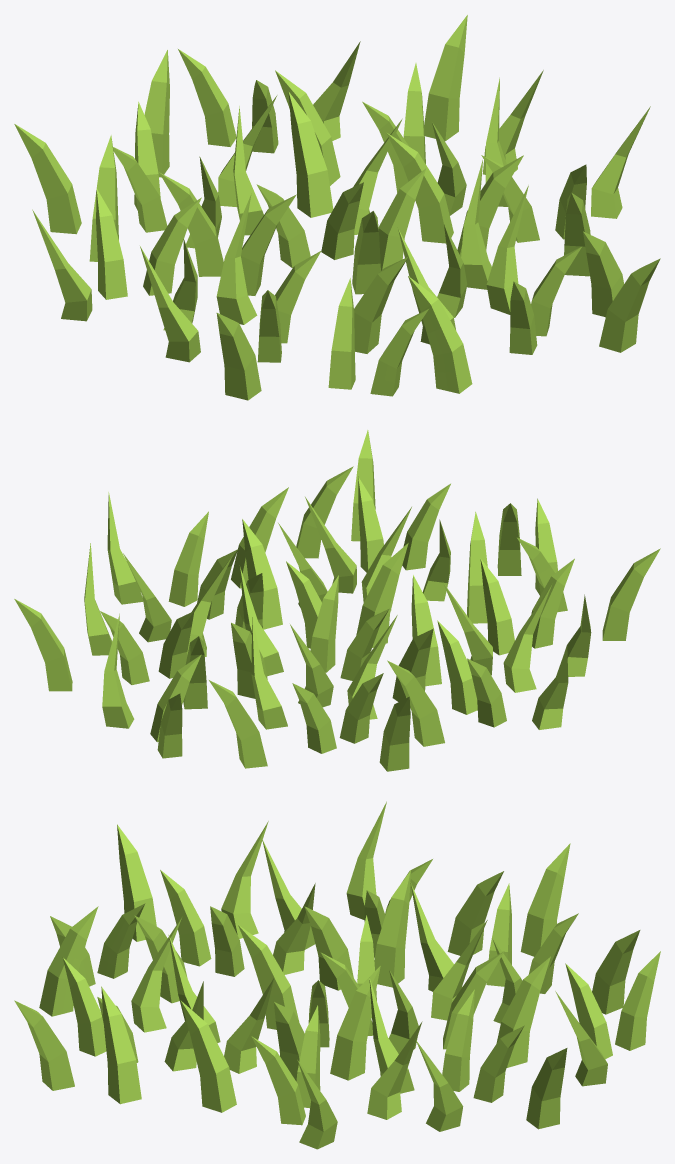
File: shrub.glb
3 renders of one model, top to bottom at view 1: azimuth 30°, elevation 25°; view 2: azimuth 150°, elevation 25°; view 3: azimuth 270°, elevation 25°, orthographic. The views are drawn at different scales.
Parts seen in each view (by area): view 1: Shrub; view 2: Shrub; view 3: Shrub.
Part boxes in pixels (left/top/right/bottom): Shrub: left=14, top=15, right=660, bottom=400; Shrub: left=14, top=430, right=660, bottom=771; Shrub: left=14, top=801, right=660, bottom=1149.
Bounding box in the file's own units: 1.4 × 0.25 × 1.49.
1 material, 1 textured.
